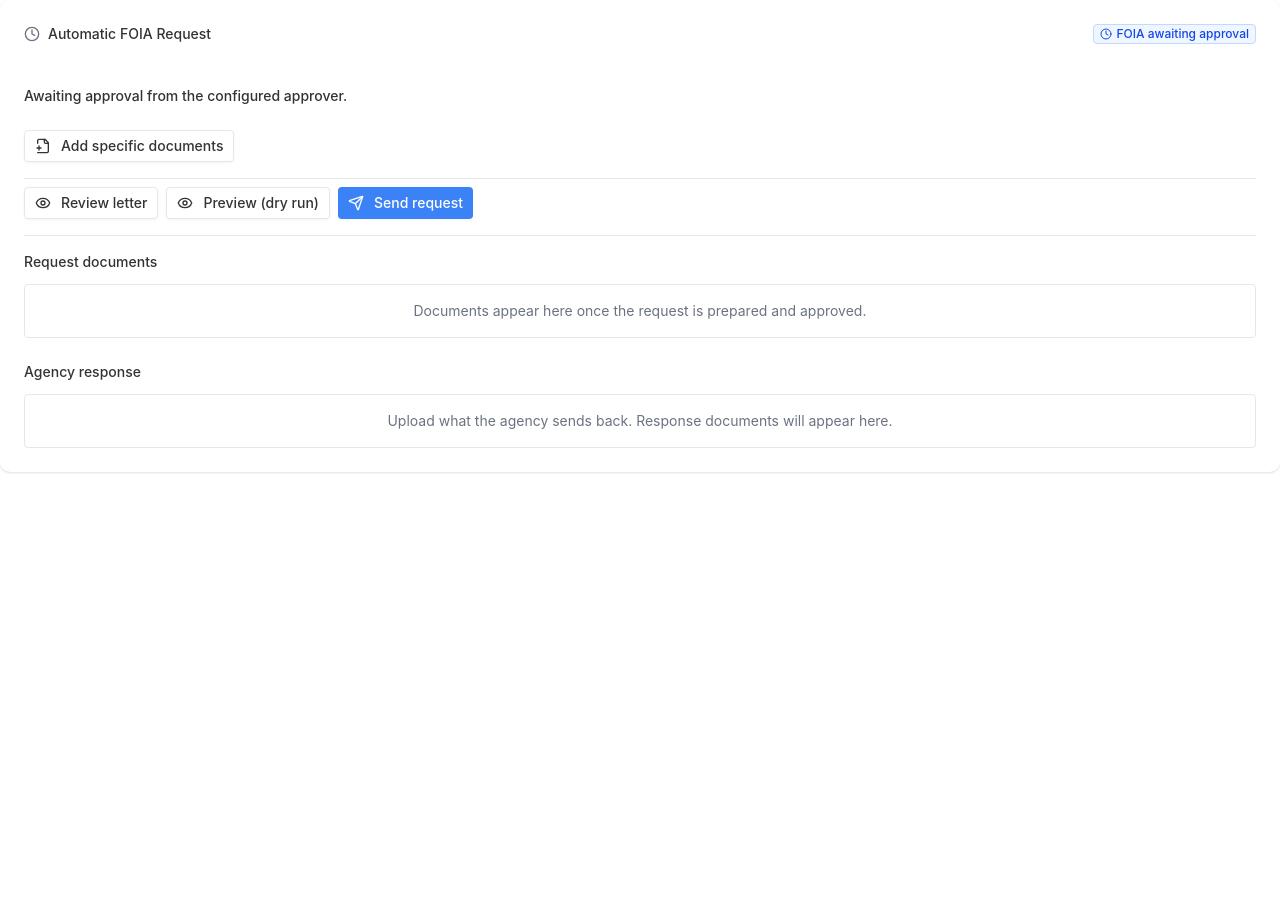
Test: FoiaAutomationCard - Send Controls › opens confirm dialog with recipient email when Send request clicked
This screenshot has width=1280, height=900.
Click the button "Send request" at (406, 203), box 338,187 -> 473,219
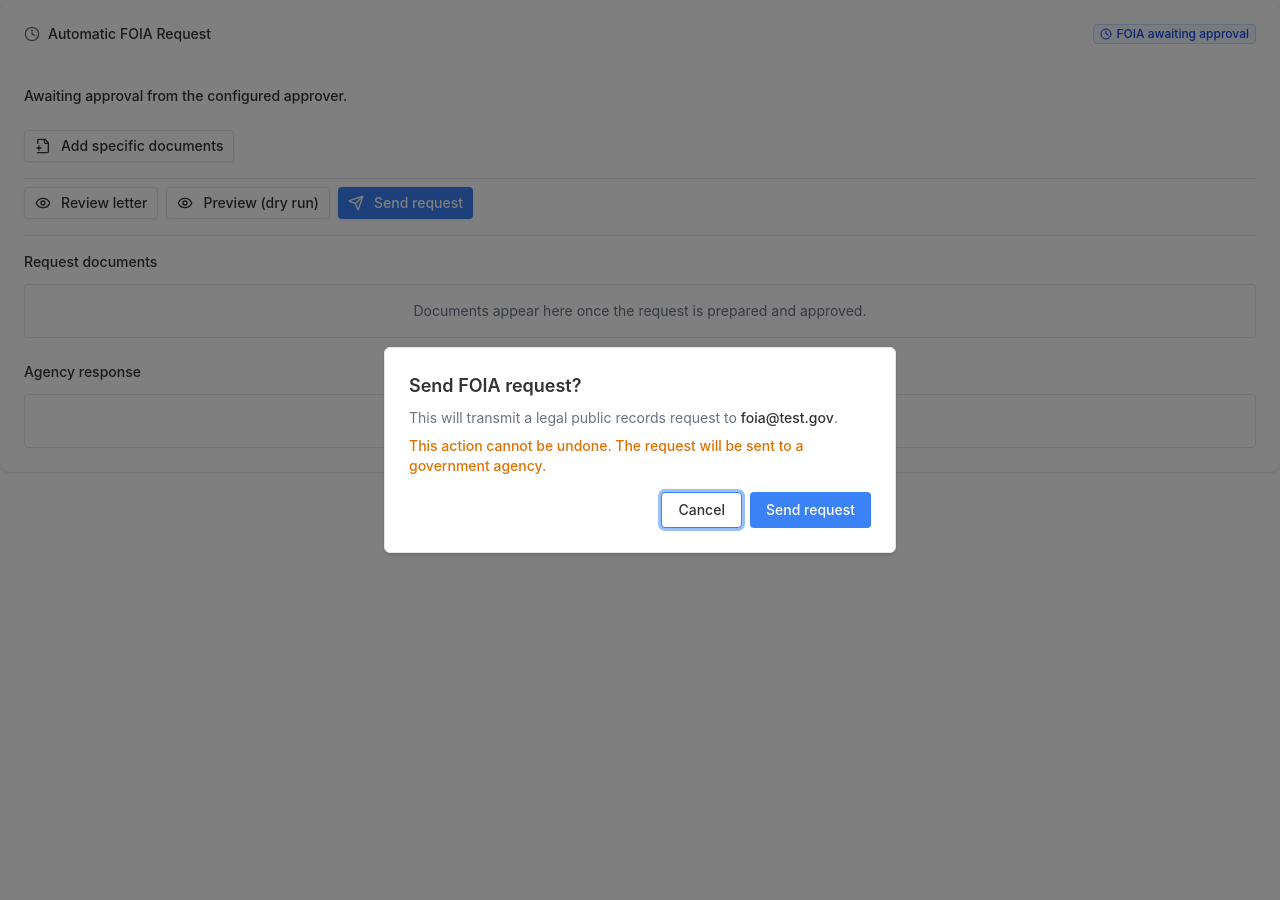
Now the heading "Send FOIA request?" is shown, box 409,375 -> 582,396
Now the text "foia@test.gov" is shown, box 741,409 -> 834,426
Now the text "This action cannot be undone. The request will be sent to a government agency." is shown, box 409,436 -> 871,476
